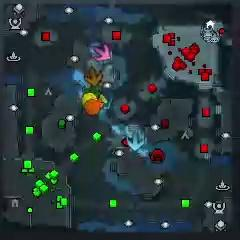p4: (81, 93, 96, 107)
p5: (85, 99, 103, 115)
x1: (94, 45, 111, 61)
x2: (95, 93, 110, 105)
x3: (127, 131, 144, 150)
x4: (83, 85, 103, 98)
x5: (85, 68, 102, 86)
